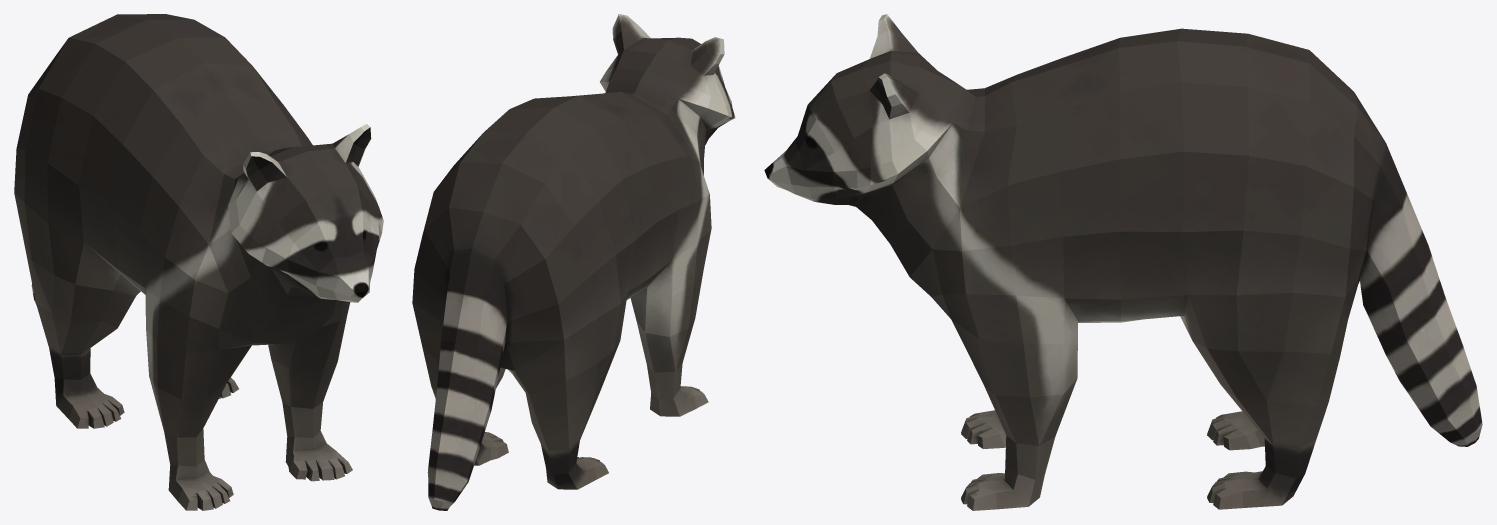
File: 2iYORwFng3_.glb
The picture shows the model from 3 angles, left to right: view 1: azimuth 30°, elevation 25°; view 2: azimuth 150°, elevation 25°; view 3: azimuth 270°, elevation 25°; orthographic projection. The views are drawn at different scales.
Visible parts, largest first — view 1: Raccoon_Mesh; view 2: Raccoon_Mesh; view 3: Raccoon_Mesh.
Boxes of the visible parts, <box> form: Raccoon_Mesh: <box>14,14,383,510</box>; Raccoon_Mesh: <box>412,14,735,510</box>; Raccoon_Mesh: <box>764,14,1482,510</box>.
Bounding box in the file's own units: 0.556 × 1 × 1.53.
Materials: 1 (1 with a texture image).
